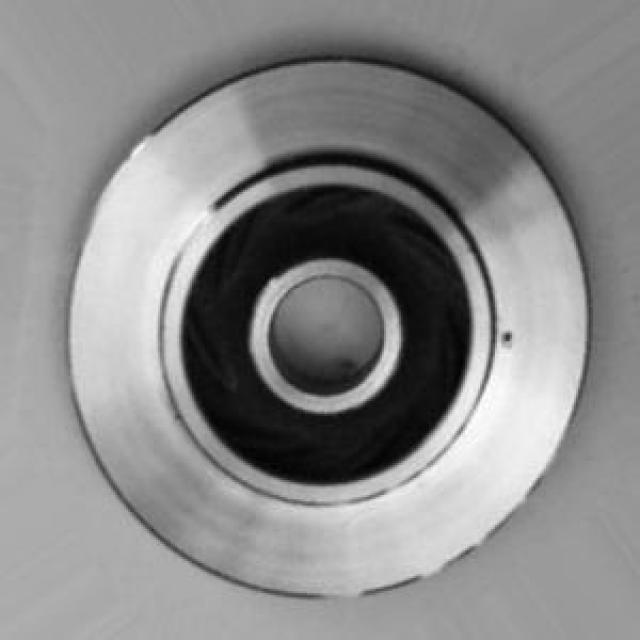Defect: (492, 326, 523, 356)
